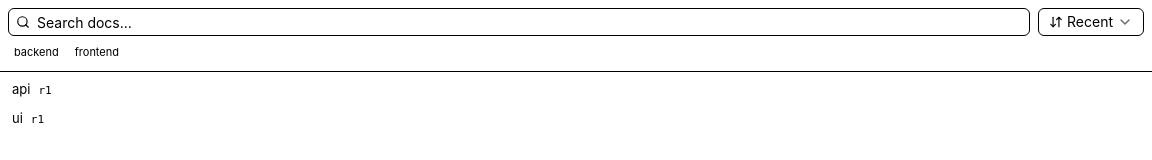
Test case: DocumentRoster › filters the active list through the tag chip group, toggling off on a second click
The width and height of the screenshot is (1152, 160).
Click the button "backend" at (36, 52), box [8,42,65,62]
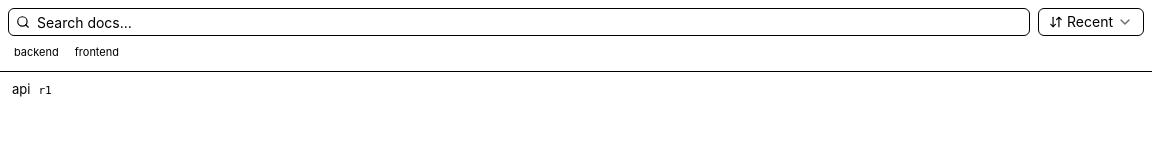
Expected: the list named "Docs" shows "api", [4,76,1148,104]
Expected: the option "Docs" no longer shows "ui"
Click the button "backend" at (36, 52), box [8,42,65,62]
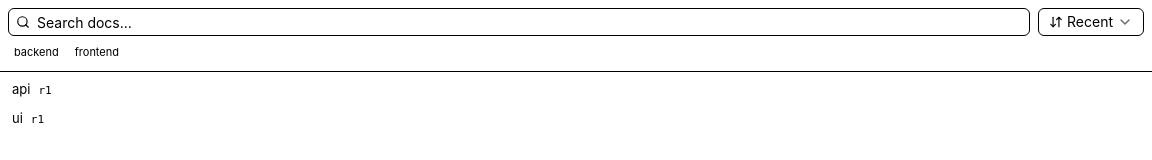
Expected: the list named "Docs" shows "ui", [4,104,1148,132]
